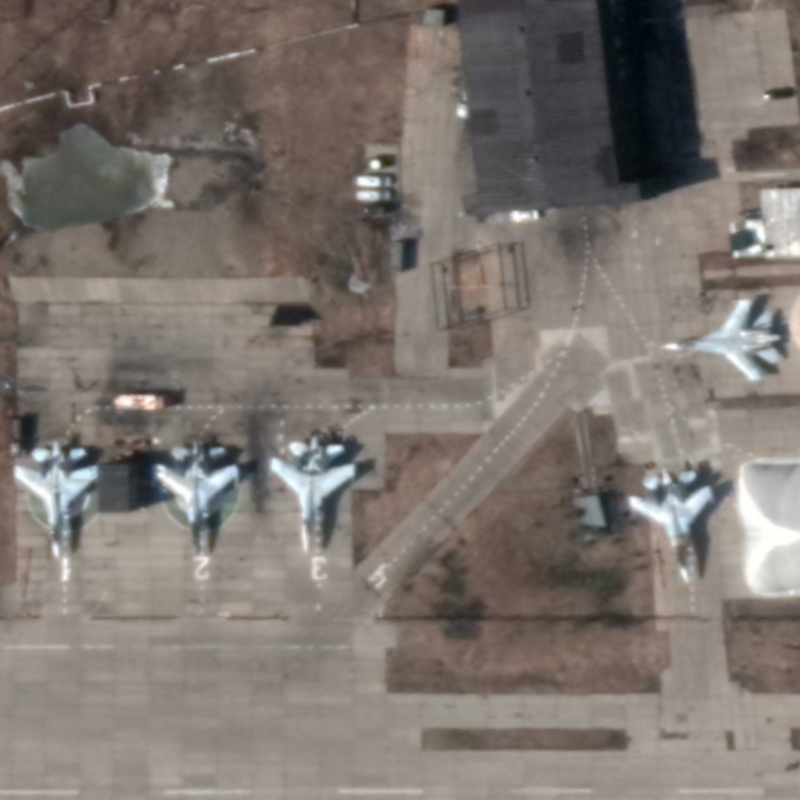A1: (267, 433, 358, 557), (11, 439, 101, 562), (627, 465, 717, 587), (153, 438, 242, 560), (661, 297, 784, 384)
